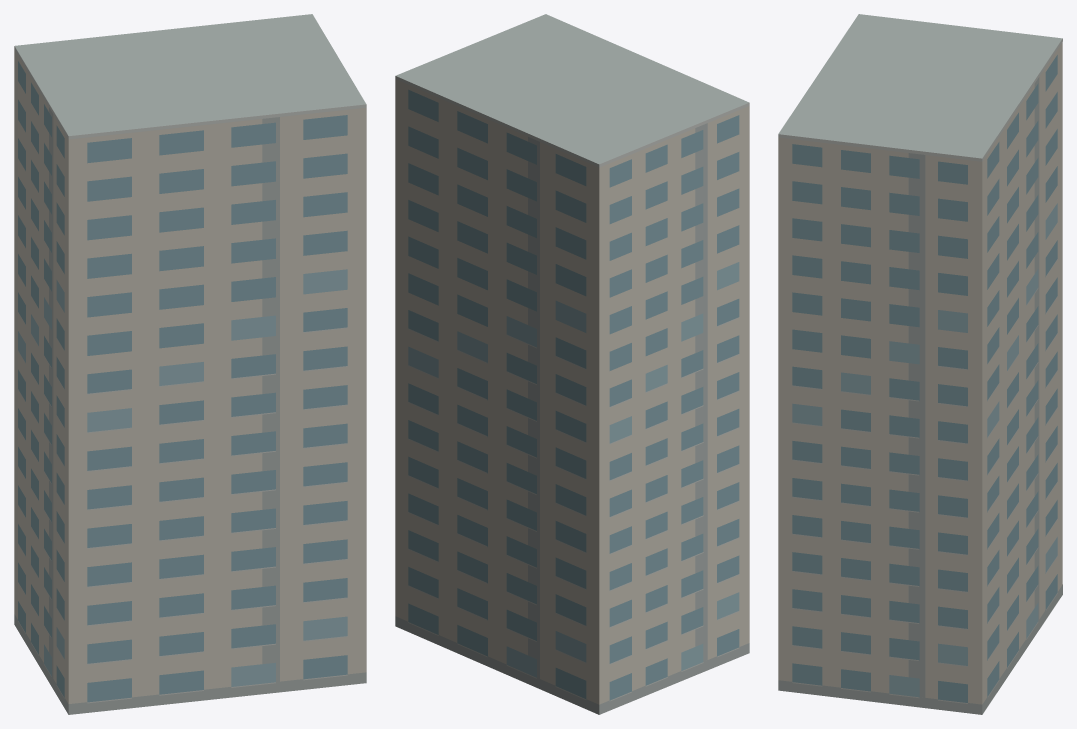
The model's file is residential-2da758a3-909a-45f9-acf5-494a0223d320.glb.
3 renders of one model, left to right at view 1: azimuth 30°, elevation 25°; view 2: azimuth 150°, elevation 25°; view 3: azimuth 270°, elevation 25°, orthographic. The views are drawn at different scales.
Parts seen in each view (by area): view 1: residential-2da758a3-909a-45f9-acf5-494a0223d320.tmp; view 2: residential-2da758a3-909a-45f9-acf5-494a0223d320.tmp; view 3: residential-2da758a3-909a-45f9-acf5-494a0223d320.tmp.
Part boxes in pixels (box(x1,y1,x2,y2)): residential-2da758a3-909a-45f9-acf5-494a0223d320.tmp: box(14, 14, 366, 714); residential-2da758a3-909a-45f9-acf5-494a0223d320.tmp: box(395, 14, 749, 714); residential-2da758a3-909a-45f9-acf5-494a0223d320.tmp: box(778, 14, 1062, 714).
Size of the model in its own units: 23.41 by 42 by 19.48.
